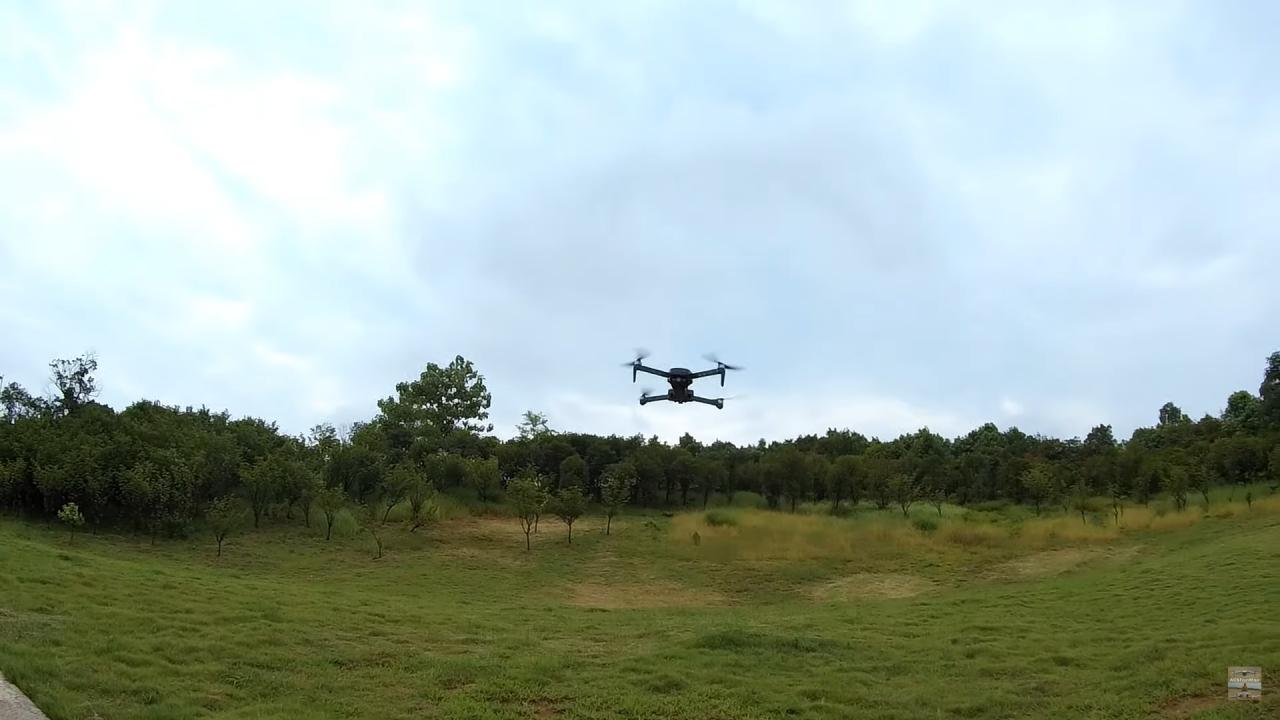Drone: (609, 338, 754, 421)
